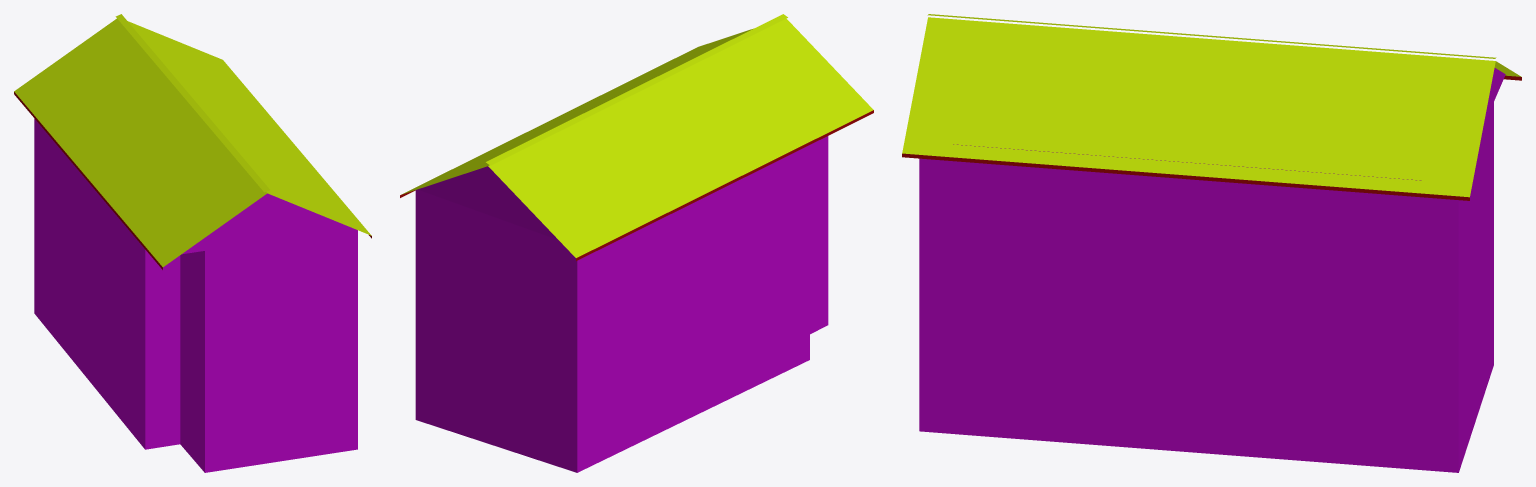
File: bgj_398.glb
The picture shows the model from 3 angles, left to right: view 1: azimuth 30°, elevation 25°; view 2: azimuth 150°, elevation 25°; view 3: azimuth 270°, elevation 25°; orthographic projection. The views are drawn at different scales.
Parts seen in each view (by area): view 1: bgj_398; view 2: bgj_398; view 3: bgj_398.
Part boxes in pixels (x1=…): bgj_398: x1=14, y1=14, x2=371, y2=472; bgj_398: x1=400, y1=14, x2=873, y2=472; bgj_398: x1=902, y1=14, x2=1521, y2=472.
Bounding box in the file's own units: 11.25 × 11.58 × 17.95.
